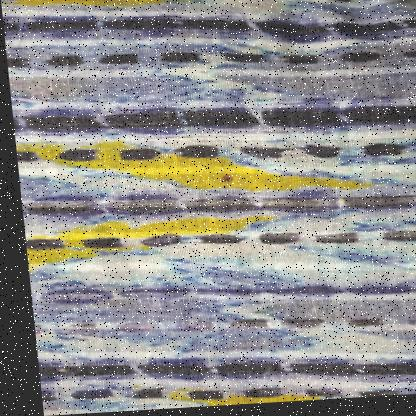spot: (208, 174, 237, 191)
